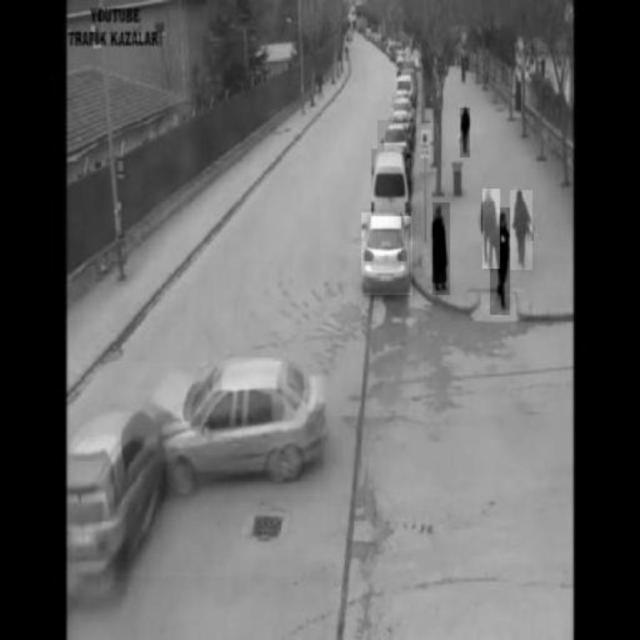accident: (73, 361, 327, 576)
person: (491, 207, 511, 315), (510, 190, 532, 270), (432, 203, 450, 295), (482, 189, 500, 269), (460, 108, 470, 158)
vehicle: (362, 213, 413, 296), (372, 150, 412, 217), (378, 121, 416, 153)
